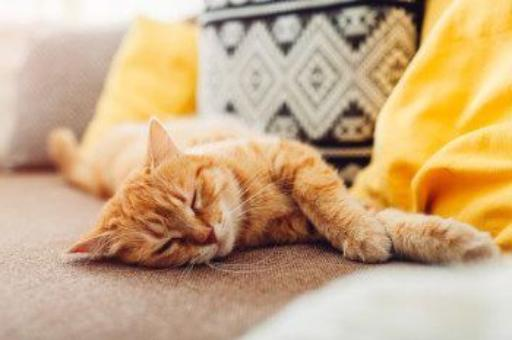cat_sleeping: (50, 117, 497, 266), (200, 203, 202, 205)
